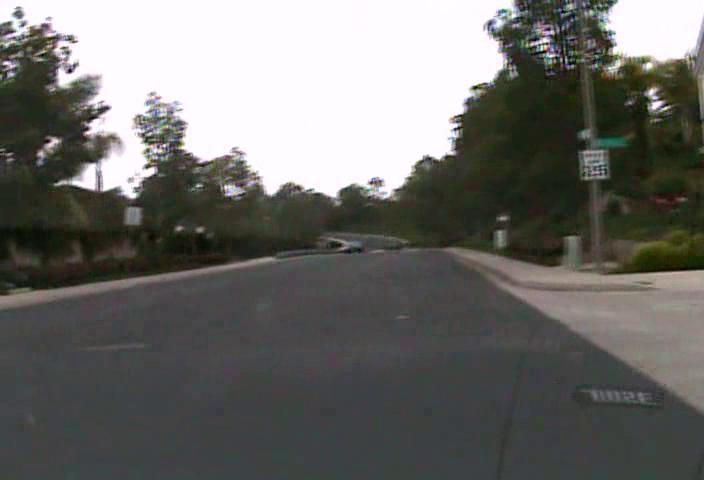speedLimit25: (578, 147, 609, 181)
